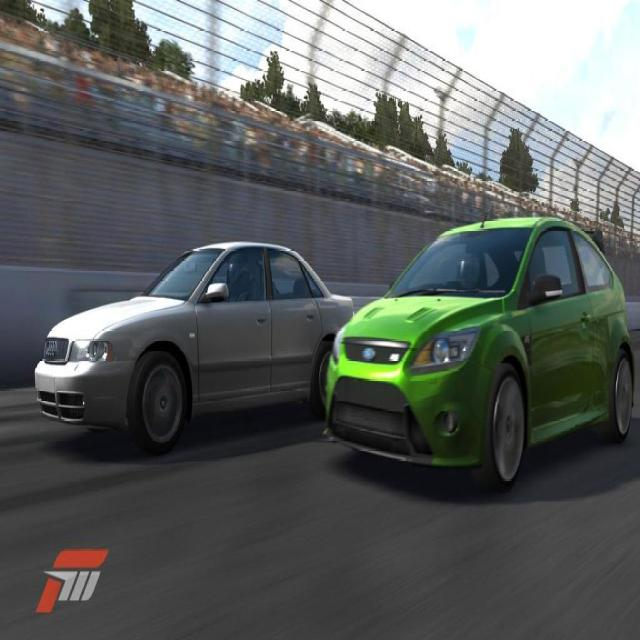car: (317, 200, 637, 487)
